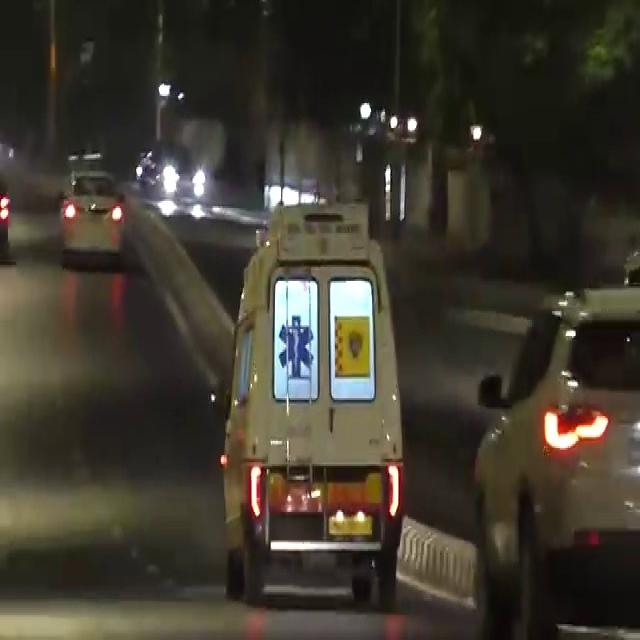ambulance: (220, 220, 404, 592)
